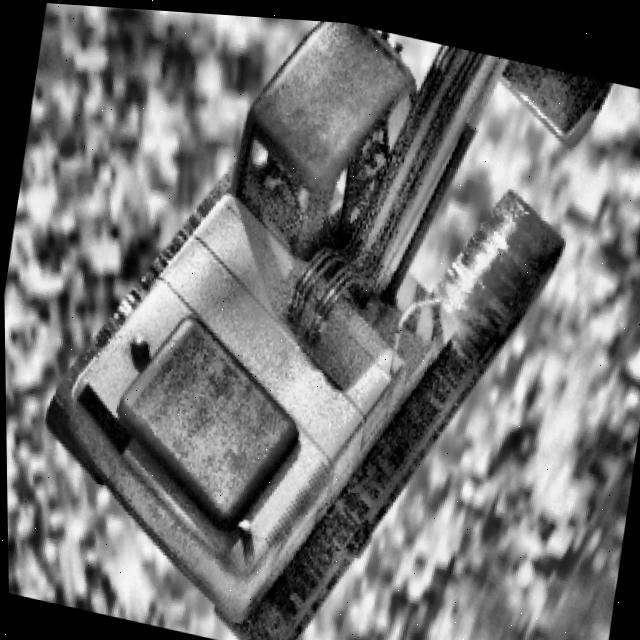excavator: (9, 0, 640, 640)
